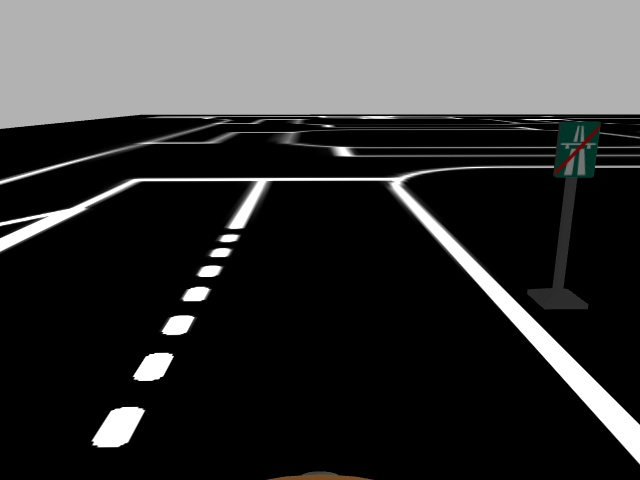leave_highway: (551, 121, 603, 181)
